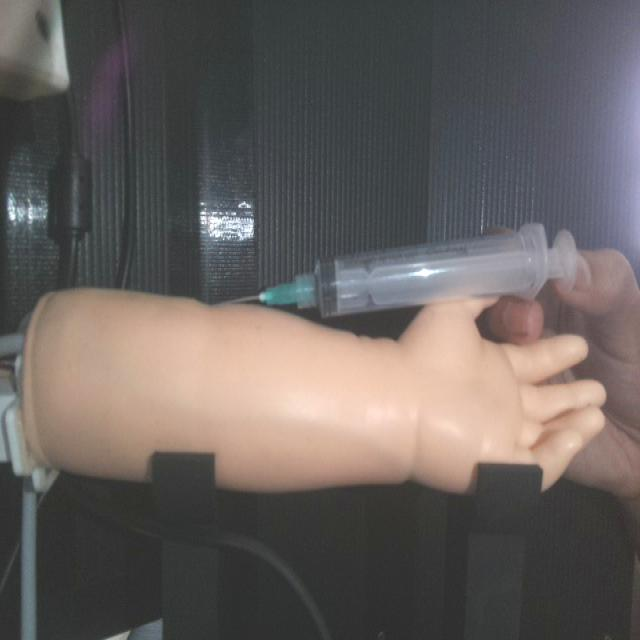Below 15 degrees: (227, 217, 584, 320)
